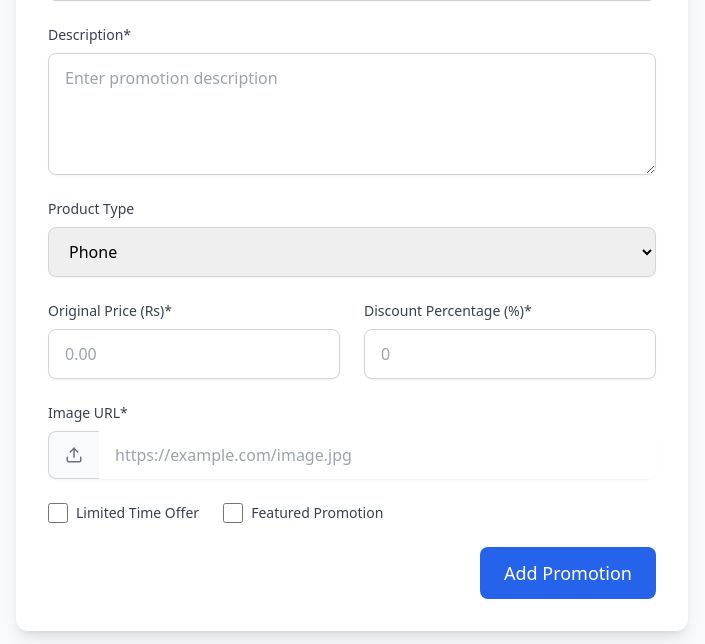
it: PromotionForm Component › TC002 - Verify required field validation on empty form submission
This screenshot has width=705, height=644.
(page scrolled)
Click the submit button at (568, 573), box [480, 547, 656, 599]
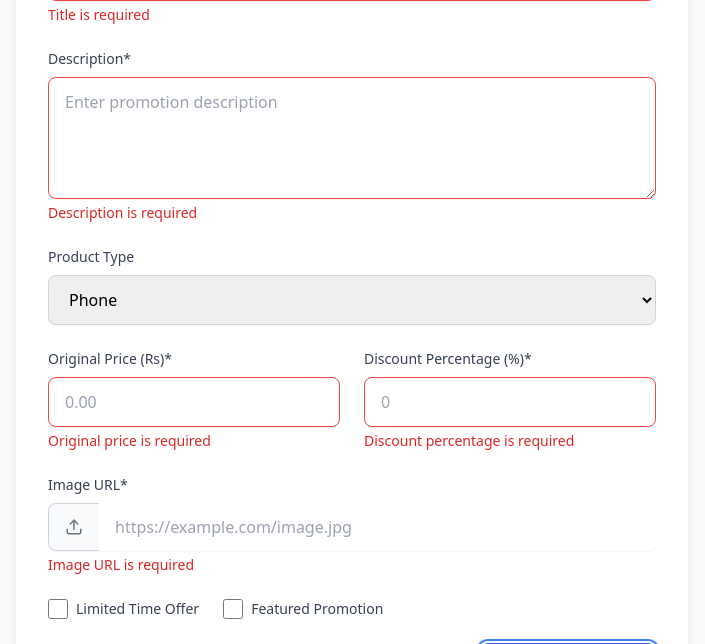
Now the text "Title is required" is shown, box [48, 5, 150, 24]
Now the text "Description is required" is shown, box [48, 203, 197, 222]
Now the text "Original price is required" is shown, box [48, 431, 211, 450]
